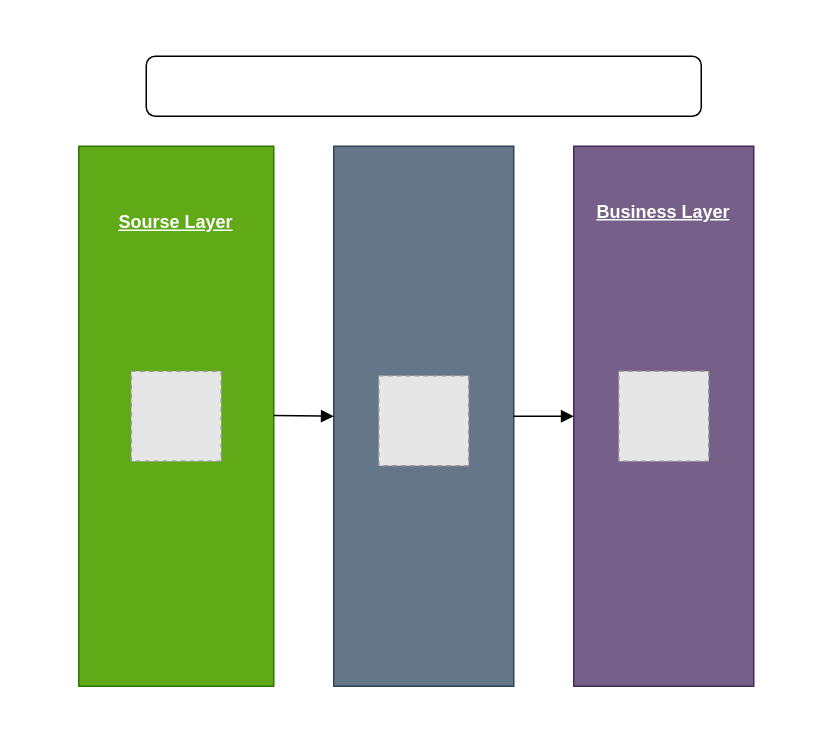
This 839x741 diagram has some shape labels left out. Grey dashed boxes stand in for pictures. The box of each missing label's shape, as (x1, y1, x2, y2) in pixels:
Storage Layer: (332, 145, 514, 686)
Верхнеуровневая архитектура.: (145, 55, 701, 116)
